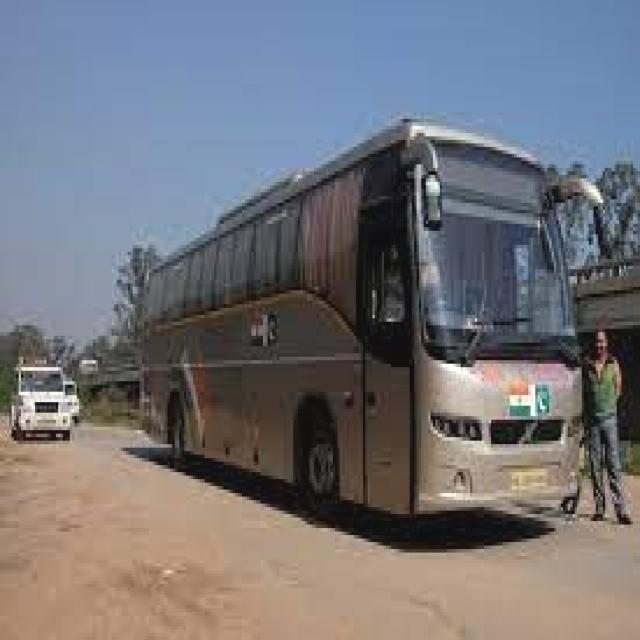Bus: (111, 105, 618, 560)
